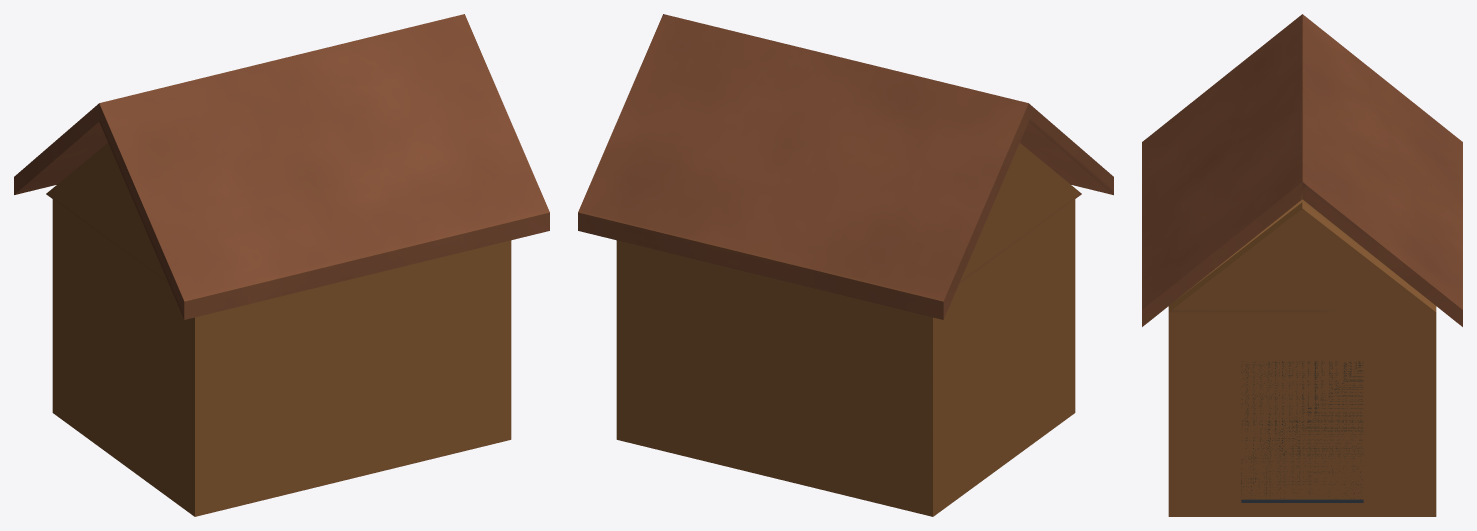
Rendered from bouda_99914b93.glb.
3 renders of one model, left to right at view 1: azimuth 30°, elevation 25°; view 2: azimuth 150°, elevation 25°; view 3: azimuth 270°, elevation 25°, orthographic. The views are drawn at different scales.
Visible parts, largest first — view 1: dum; view 2: dum; view 3: dum.
Boxes of the visible parts, box(x1,y1,x2,y2) form: dum: box(14, 14, 549, 516); dum: box(578, 14, 1113, 516); dum: box(1142, 14, 1462, 516).
Bounding box in the file's own units: 1.04 × 0.9975 × 0.8378.
1 material, 1 textured.
